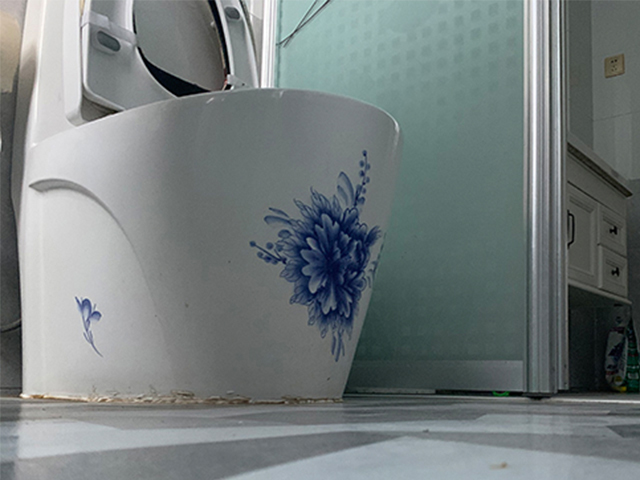closestool: (13, 1, 405, 404)
